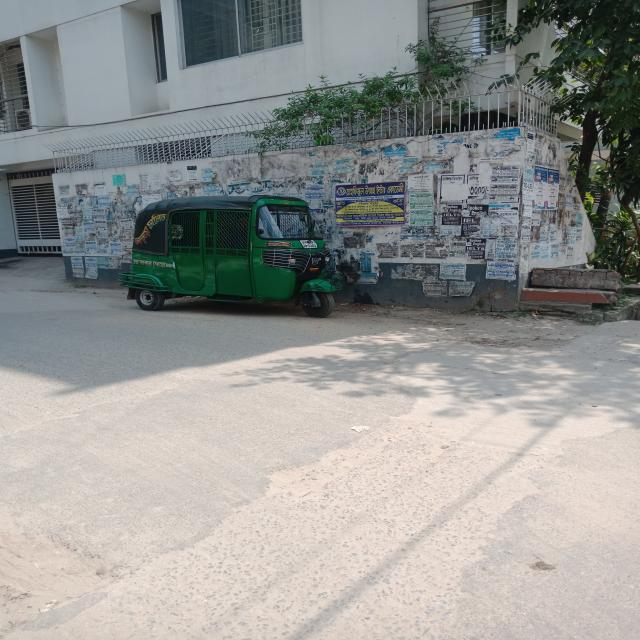CNG: (126, 181, 338, 327)
